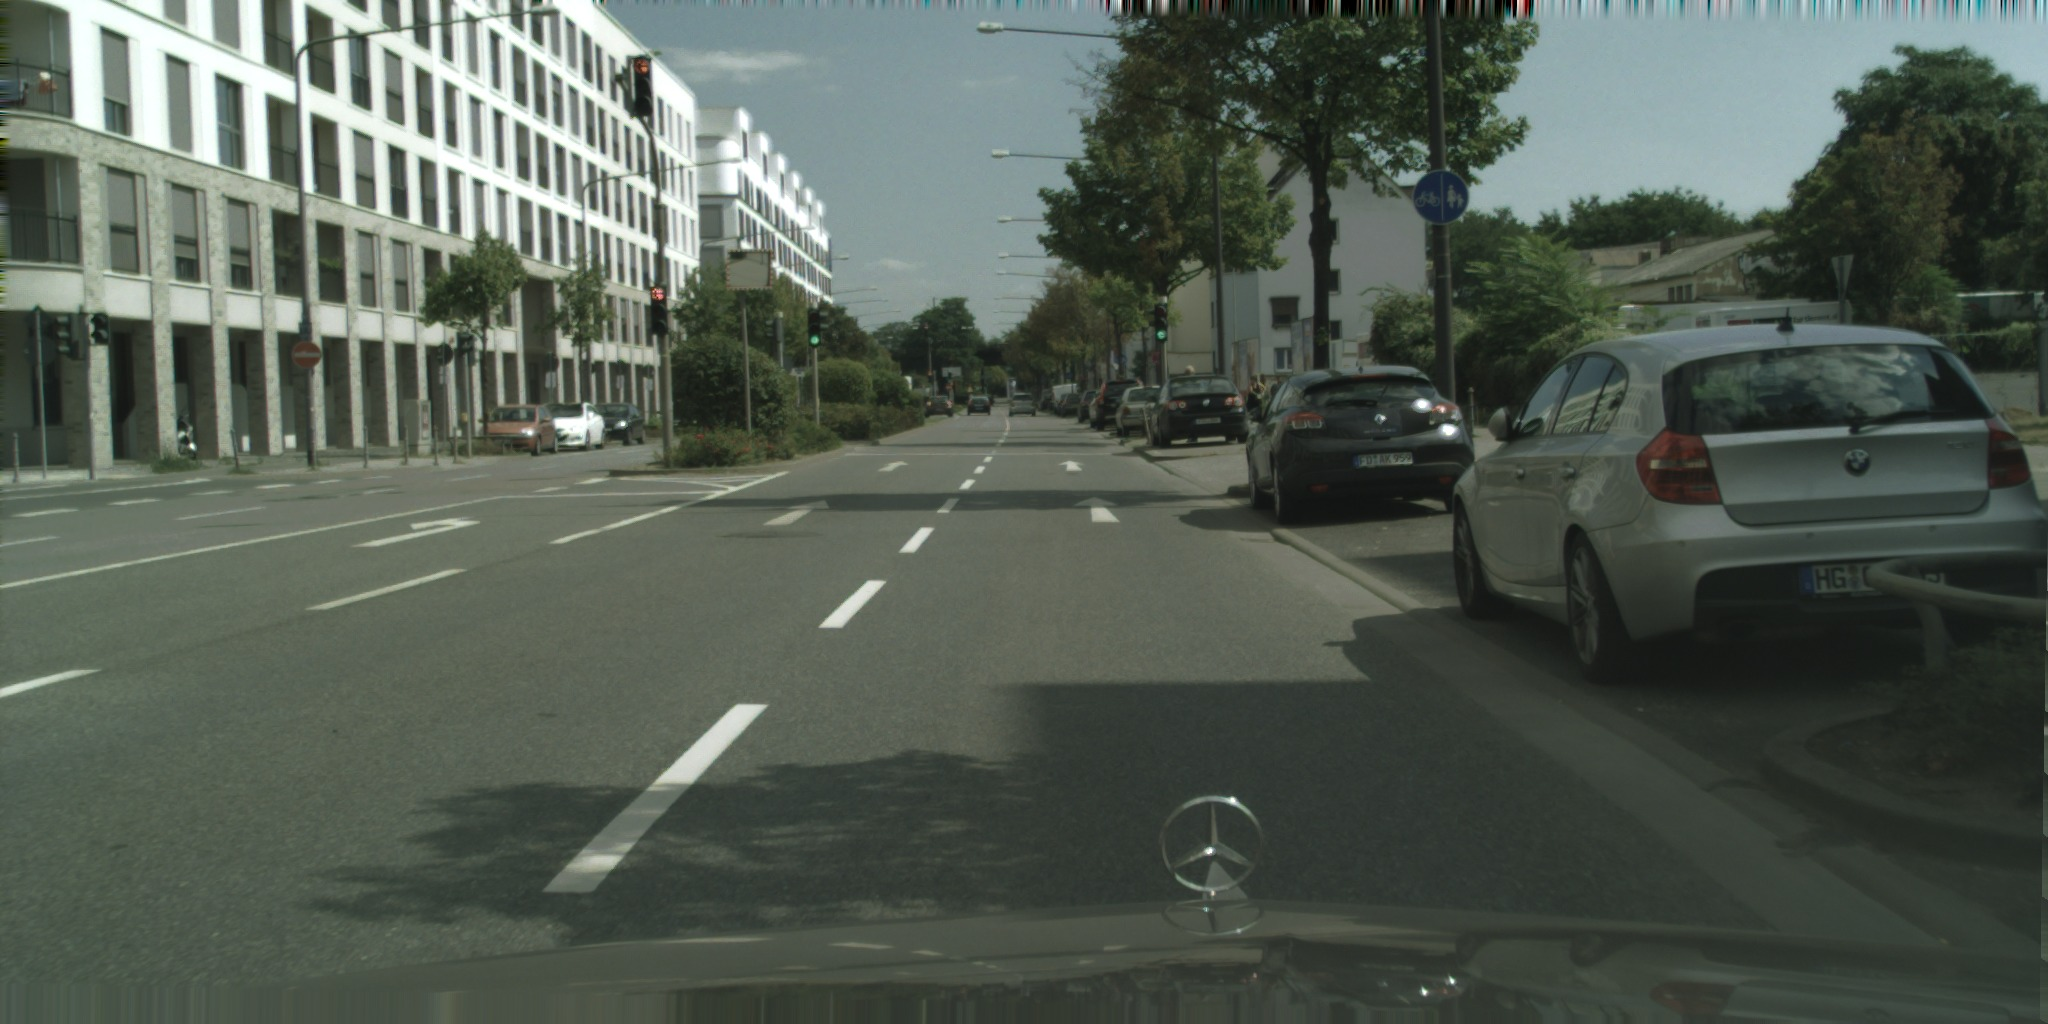car: (1450, 316, 2047, 682), (1245, 365, 1475, 524), (1147, 374, 1249, 448), (477, 404, 558, 456), (529, 402, 607, 451), (1112, 386, 1171, 437), (581, 402, 646, 446), (1095, 378, 1146, 430), (1089, 387, 1119, 428), (1077, 389, 1108, 423), (1051, 383, 1081, 413), (1007, 392, 1036, 416), (925, 395, 953, 417), (965, 395, 990, 415), (1038, 392, 1059, 411)
motorcycle: (176, 412, 198, 459)
person: (1183, 365, 1197, 442), (1246, 375, 1265, 423)
